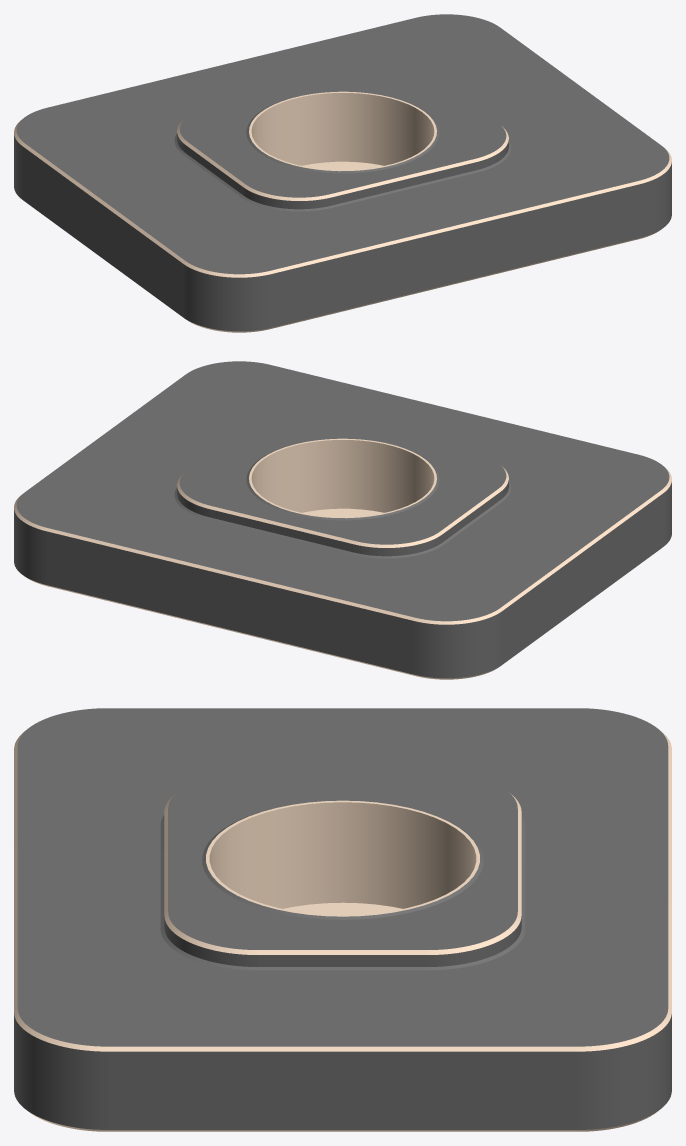
Rendered from OneButtonCase.fbx.
The picture shows the model from 3 angles, top to bottom: view 1: azimuth 30°, elevation 25°; view 2: azimuth 150°, elevation 25°; view 3: azimuth 270°, elevation 25°; orthographic projection. The views are drawn at different scales.
Visible parts, largest first — view 1: Model; view 2: Model; view 3: Model.
Part boxes in pixels (bbox=[...]): Model: bbox=[14, 14, 671, 332]; Model: bbox=[14, 361, 671, 679]; Model: bbox=[14, 708, 671, 1131].
Bounding box in the file's own units: 430 × 61 × 350.
